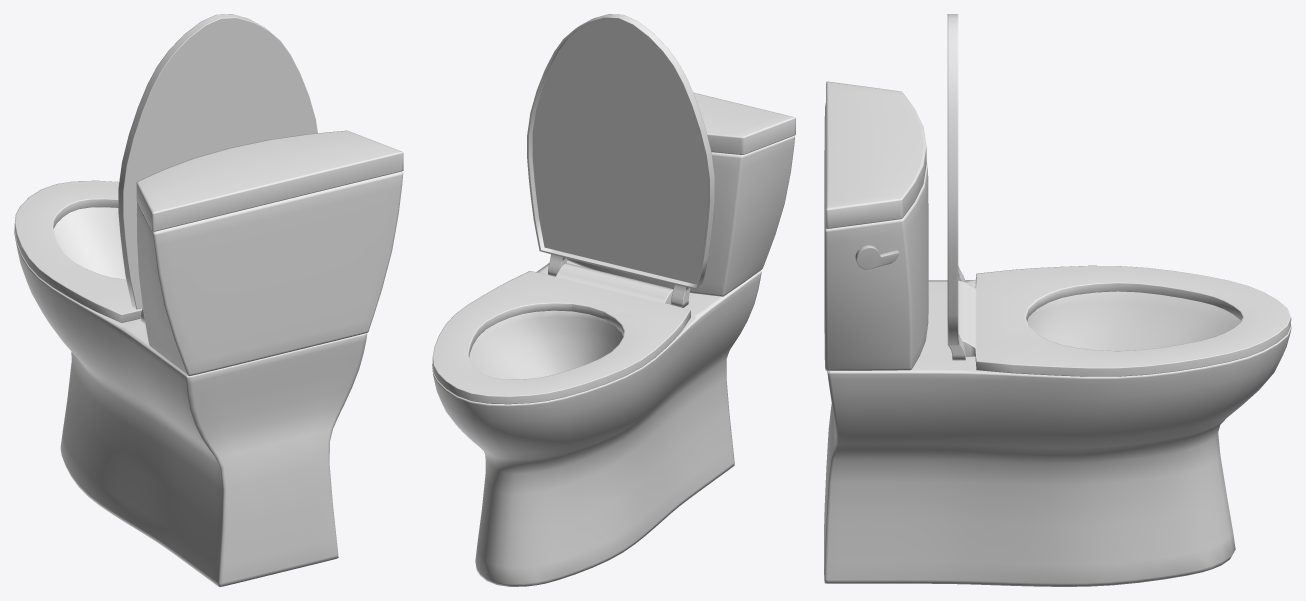
The model's file is Toilet03.fbx.
3 renders of one model, left to right at view 1: azimuth 30°, elevation 25°; view 2: azimuth 150°, elevation 25°; view 3: azimuth 270°, elevation 25°, orthographic. The views are drawn at different scales.
Visible parts, largest first — view 1: Toilet03, ToiletCover03, ToiletSeat03; view 2: Toilet03, ToiletCover03, ToiletSeat03; view 3: Toilet03, ToiletSeat03, ToiletCover03, ToiletHandle03.
Boxes of the visible parts, <box> form: Toilet03: <box>14,130,403,586</box>; ToiletCover03: <box>118,14,317,323</box>; ToiletSeat03: <box>14,180,142,322</box>; Toilet03: <box>432,92,795,586</box>; ToiletCover03: <box>527,14,714,307</box>; ToiletSeat03: <box>432,263,690,404</box>; Toilet03: <box>824,81,1291,586</box>; ToiletSeat03: <box>958,265,1291,376</box>; ToiletCover03: <box>947,14,965,360</box>; ToiletHandle03: <box>855,245,898,269</box>.
Size of the model in its own units: 42.7 by 83.18 by 65.78.
